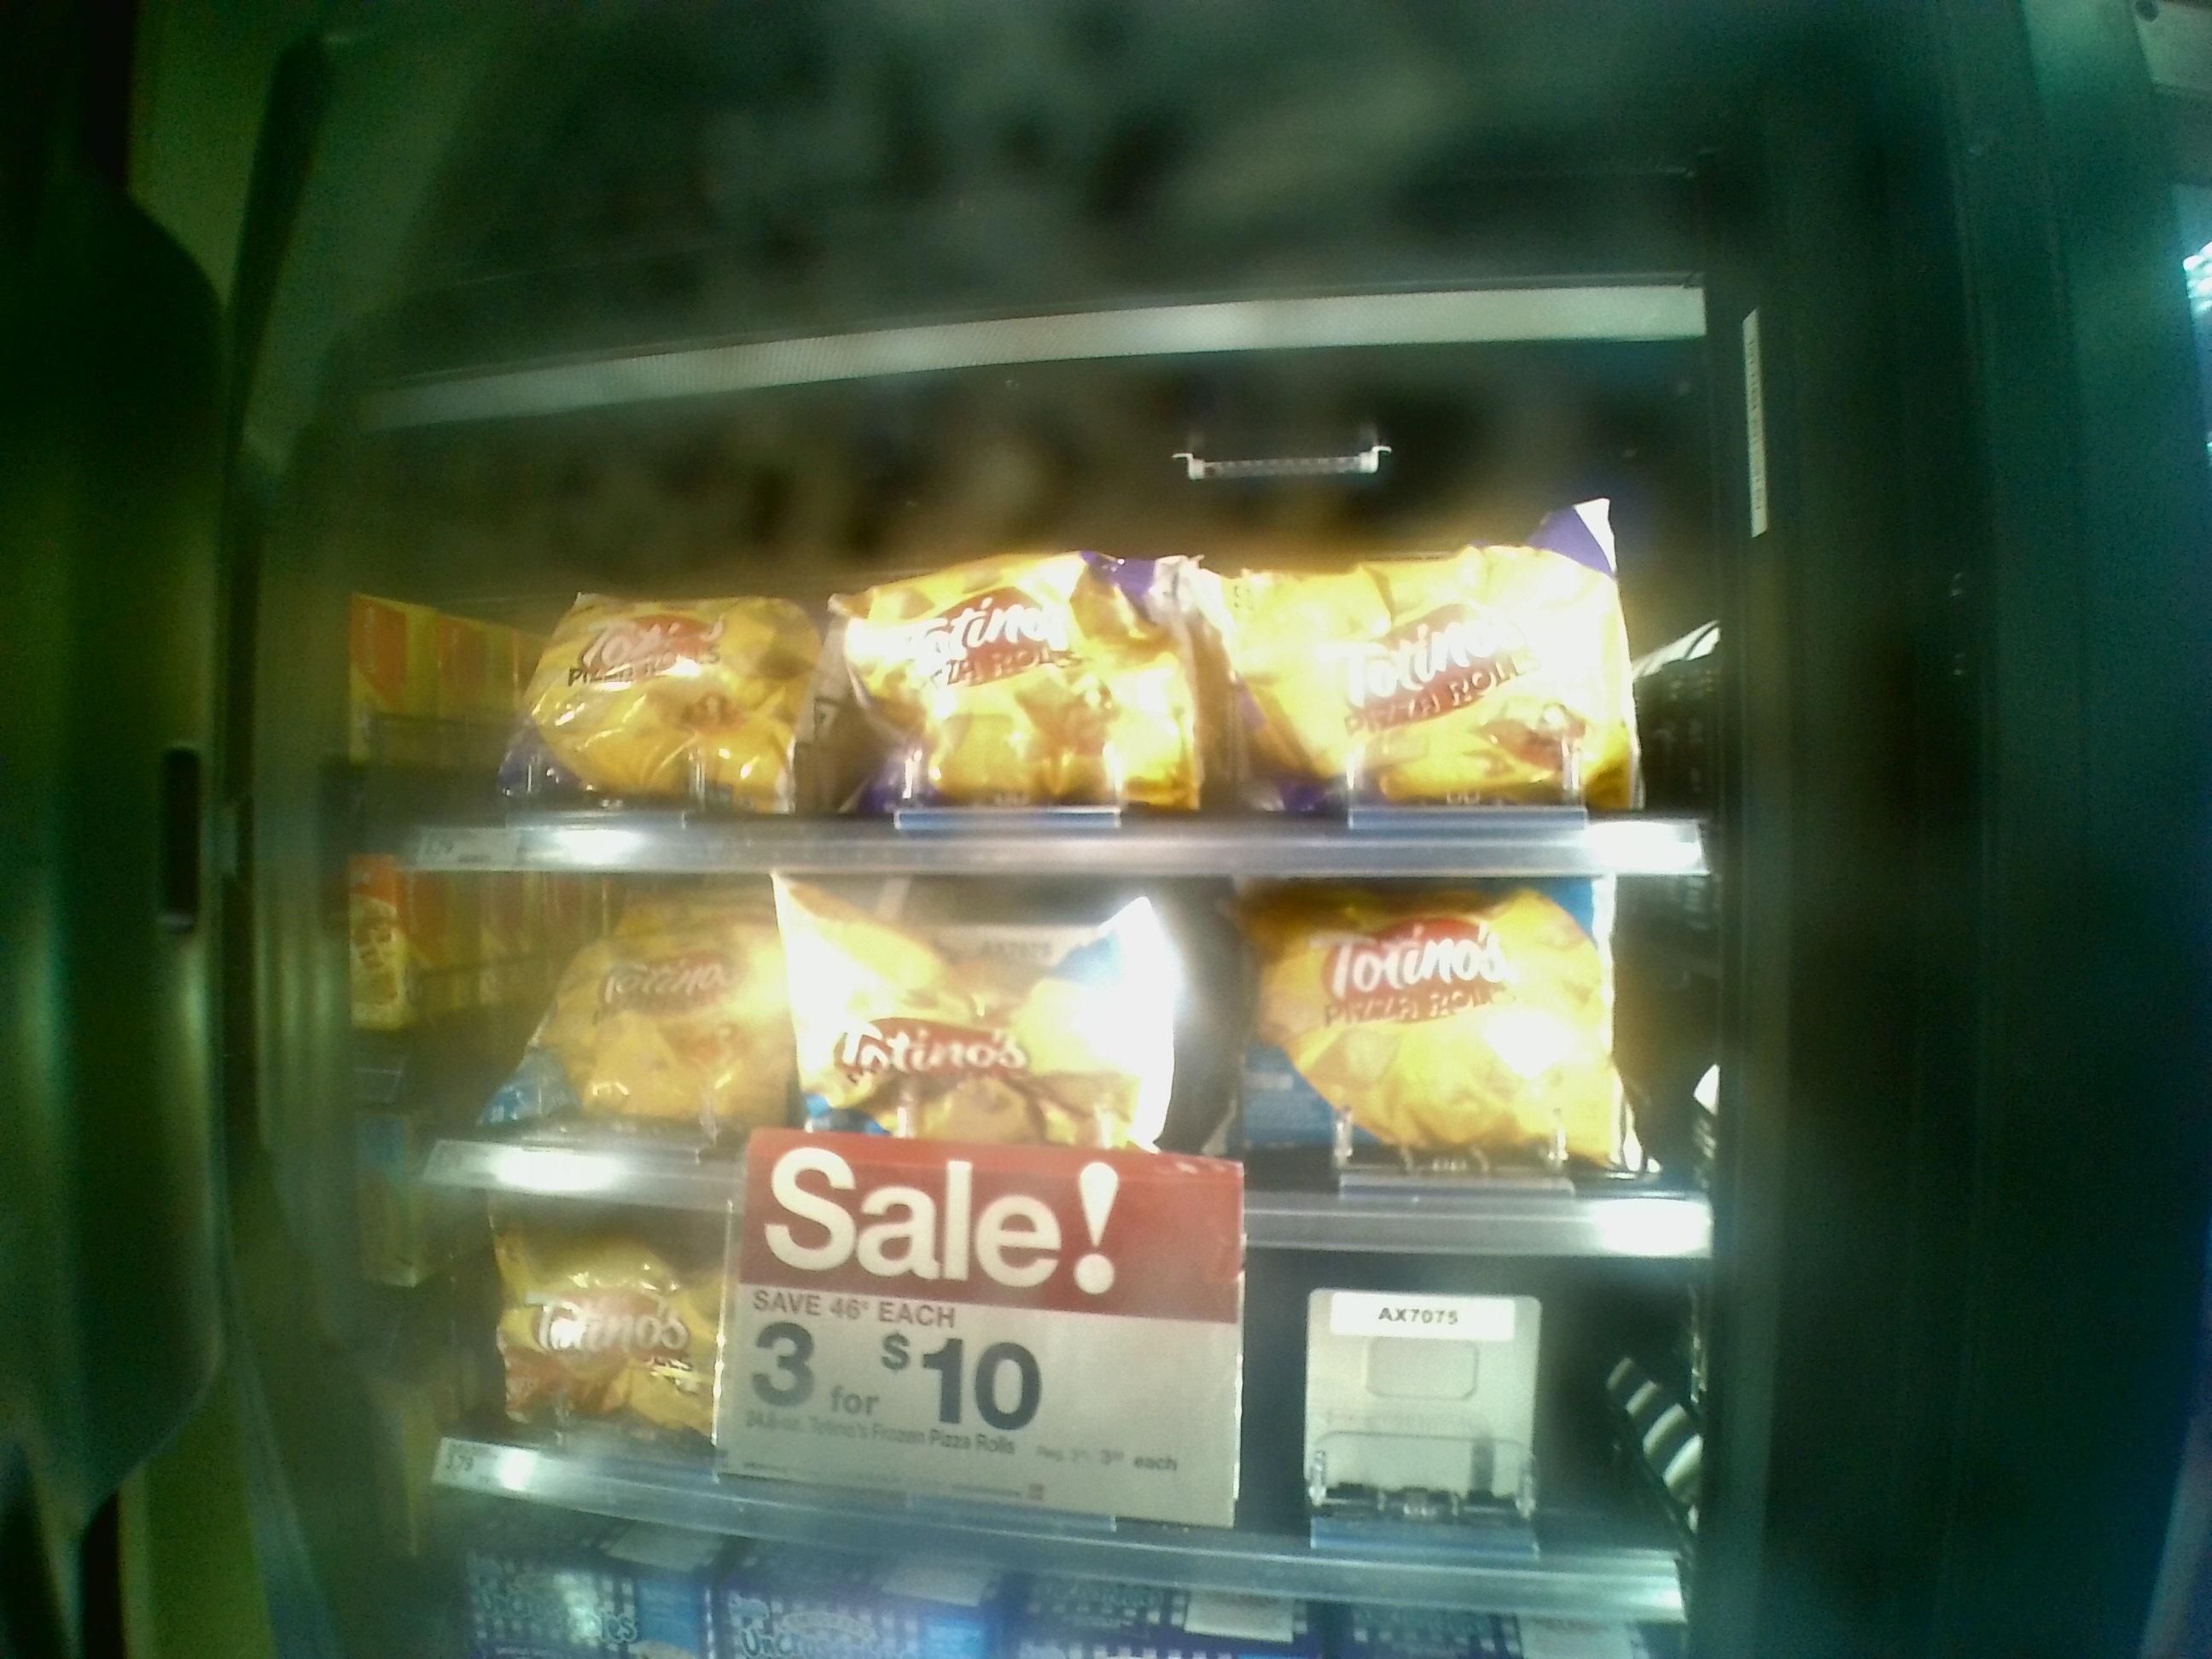shelf: (374, 443, 1730, 878), (404, 1195, 1712, 1619), (359, 871, 1721, 1256)
